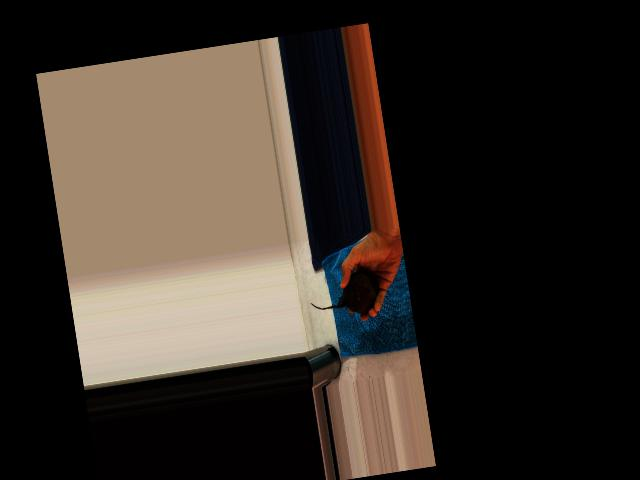beet: (307, 269, 383, 321)
